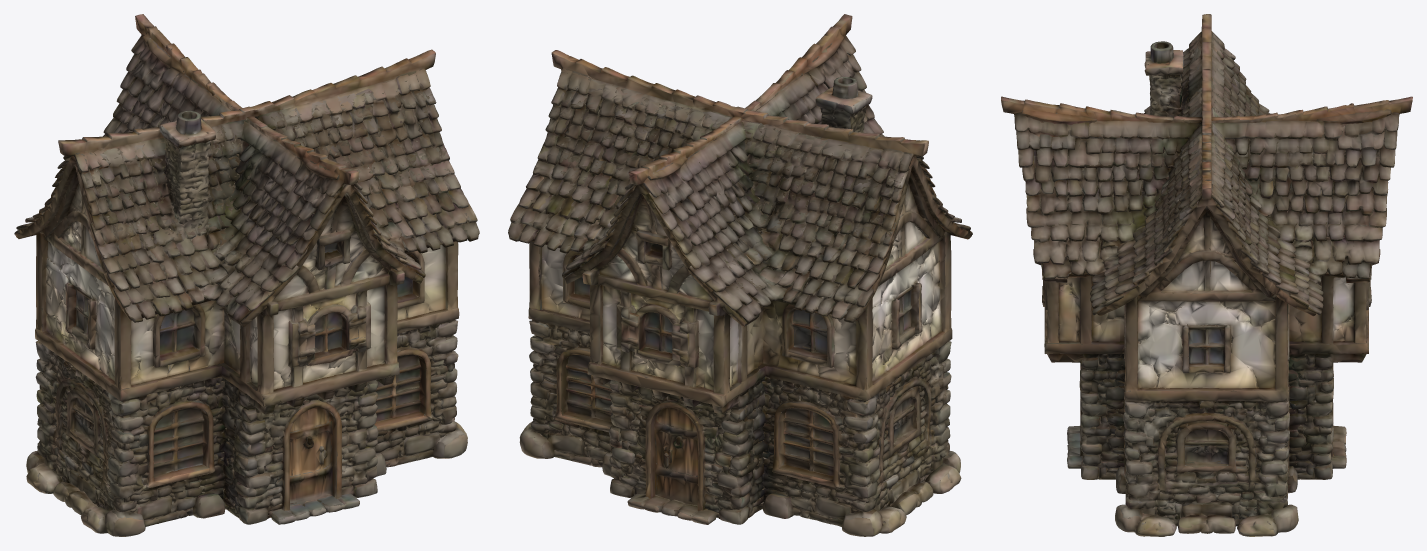
The model's file is building15.glb.
3 renders of one model, left to right at view 1: azimuth 30°, elevation 25°; view 2: azimuth 150°, elevation 25°; view 3: azimuth 270°, elevation 25°, orthographic. The views are drawn at different scales.
Bounding box in the file's own units: 1.9 × 1.87 × 1.9.
1 material, 1 textured.
